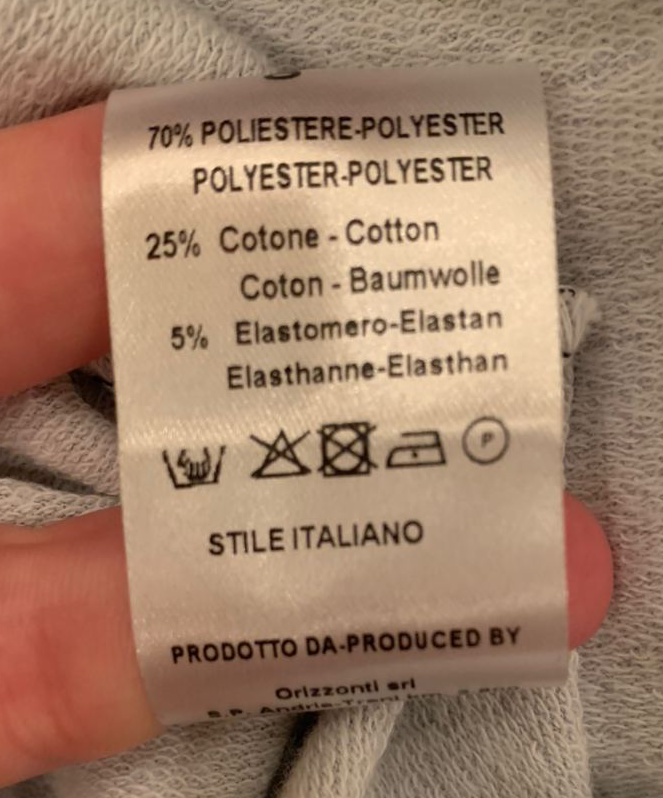do_not_bleach: (245, 423, 315, 483)
do_not_tumble_drying: (314, 417, 376, 480)
dry_clean_tetrachloroethylene_pce_only: (460, 415, 512, 465)
hand_wash: (160, 436, 230, 493)
ironing_at_low_temp: (383, 424, 448, 470)
